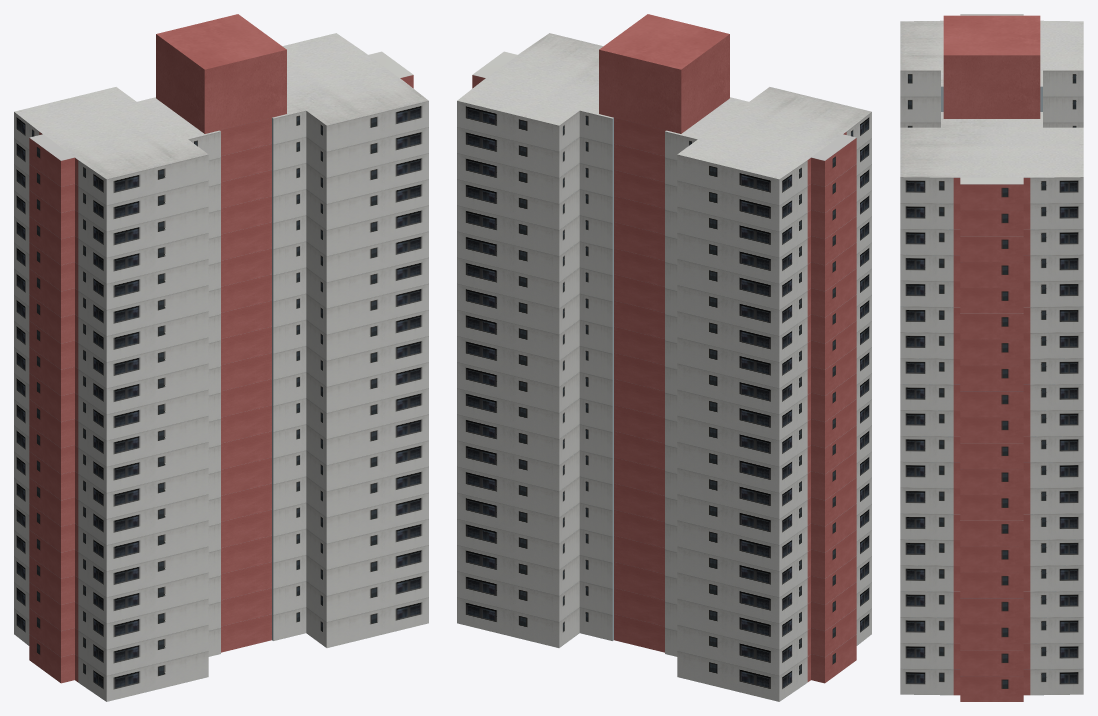
Rendered from Building-05b.fbx.
The picture shows the model from 3 angles, left to right: view 1: azimuth 30°, elevation 25°; view 2: azimuth 150°, elevation 25°; view 3: azimuth 270°, elevation 25°; orthographic projection.
Visible parts, largest first — view 1: Building-05; view 2: Building-05; view 3: Building-05.
Part boxes in pixels (bbox=[...]): Building-05: bbox=[14, 14, 428, 701]; Building-05: bbox=[457, 14, 871, 701]; Building-05: bbox=[900, 14, 1083, 701].
Bounding box in the file's own units: 4587 × 7294 × 2084.
